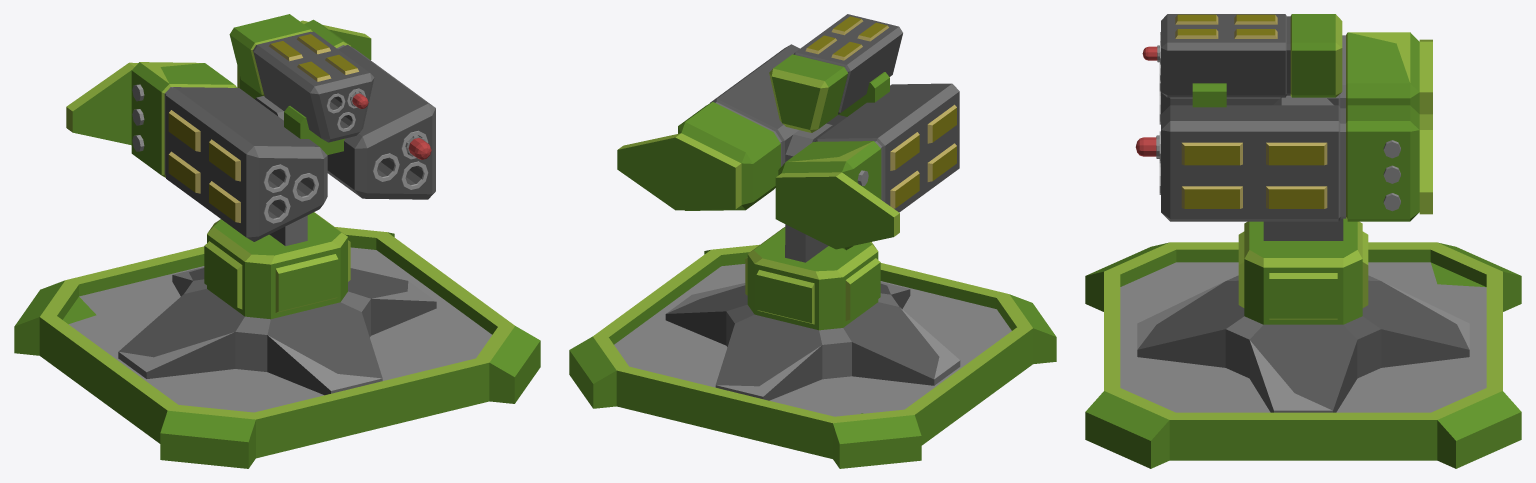
Rendered from tower_rocket_green_3.fbx.
3 views of the same model, side by side, from view 1: azimuth 30°, elevation 25°; view 2: azimuth 150°, elevation 25°; view 3: azimuth 270°, elevation 25° (orthographic). The views are drawn at different scales.
Visible parts, largest first — view 1: top_rocket_green_3, tower_rocket_green_3; view 2: top_rocket_green_3, tower_rocket_green_3; view 3: top_rocket_green_3, tower_rocket_green_3, rocket_green_3.
Part boxes in pixels (<box>): top_rocket_green_3: <box>66,14,436,395</box>; tower_rocket_green_3: <box>14,227,540,468</box>; top_rocket_green_3: <box>617,14,960,400</box>; tower_rocket_green_3: <box>569,244,1056,468</box>; top_rocket_green_3: <box>1137,14,1469,412</box>; tower_rocket_green_3: <box>1085,242,1521,468</box>; rocket_green_3: <box>1135,135,1159,158</box>.
Size of the model in its own units: 173 by 144 by 164.
